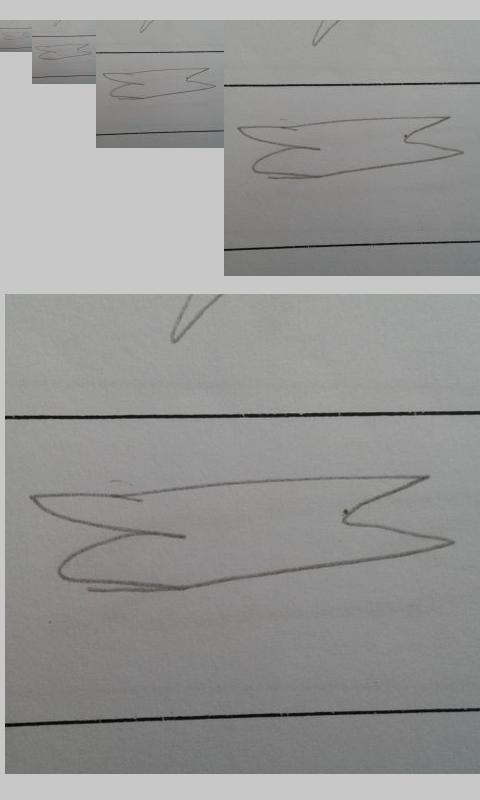edit_text: (31, 473, 456, 592), (236, 114, 463, 181), (102, 67, 217, 101), (36, 43, 90, 60), (3, 31, 29, 40)
